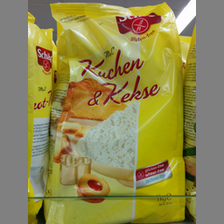flour: (48, 2, 185, 223)
